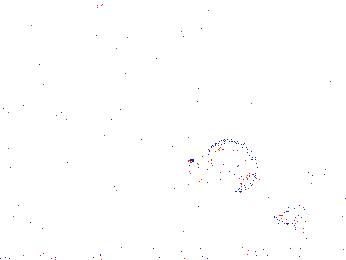flame jellyfish: (273, 174, 346, 227), (202, 138, 260, 195), (182, 156, 236, 217)
